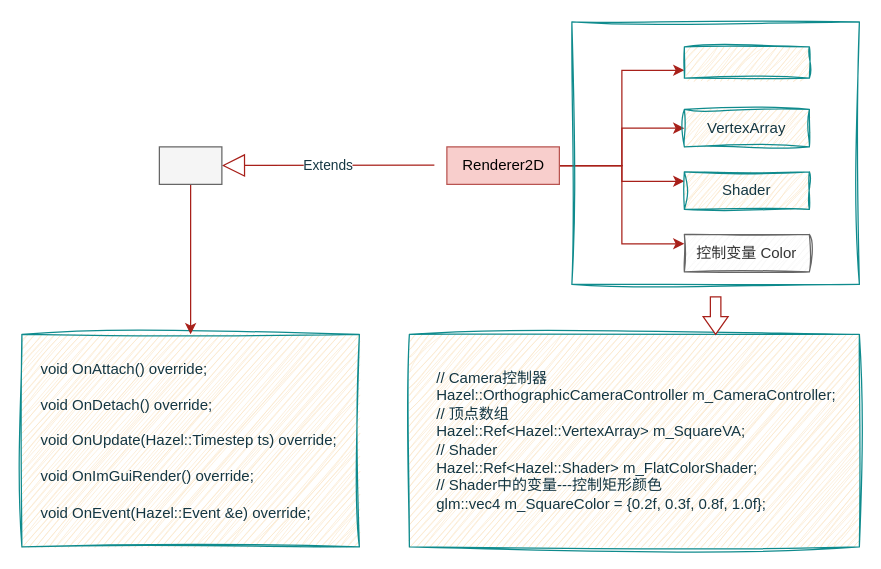
This 881x569 diagram has some shape labels left out. The centre of each missing label's shape, as x and y in pixels:
"Camera" goes at [746,62].
"Layer" goes at [190,165].
